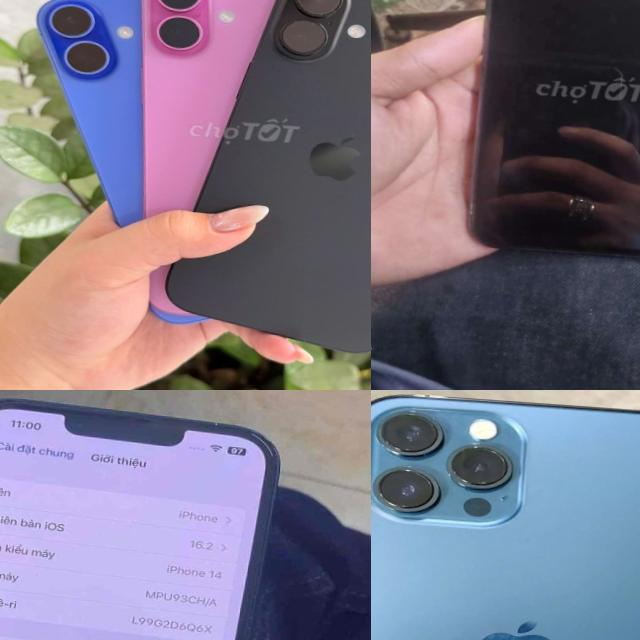gen_11: (460, 0, 640, 275)
gen_12_13: (371, 390, 640, 640)
gen_14: (0, 390, 289, 640)
gen_16: (160, 0, 371, 366)
